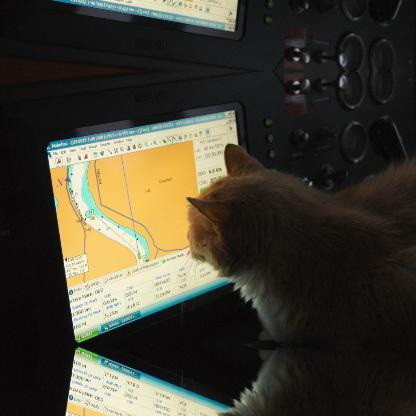Cat: (184, 141, 414, 344), (183, 345, 415, 415)
